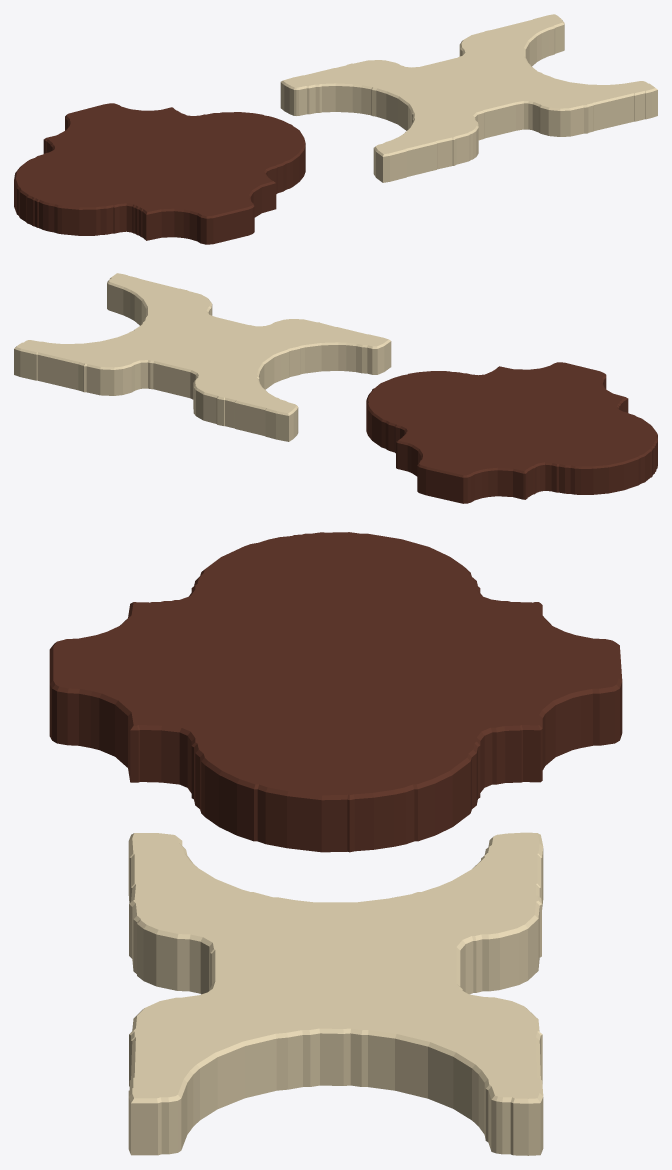
File: mahsulot.glb
The picture shows the model from 3 angles, top to bottom: view 1: azimuth 30°, elevation 25°; view 2: azimuth 150°, elevation 25°; view 3: azimuth 270°, elevation 25°; orthographic projection. The views are drawn at different scales.
Parts seen in each view (by area): view 1: mahsulot_A, mahsulot_B; view 2: mahsulot_A, mahsulot_B; view 3: mahsulot_A, mahsulot_B.
Part boxes in pixels (<box>): mahsulot_A: <box>14,103,305,244</box>; mahsulot_B: <box>280,14,657,182</box>; mahsulot_A: <box>366,362,657,503</box>; mahsulot_B: <box>14,273,391,441</box>; mahsulot_A: <box>49,532,622,852</box>; mahsulot_B: <box>128,832,543,1155</box>.
Size of the model in its own units: 0.551 by 0.025 by 0.234.
